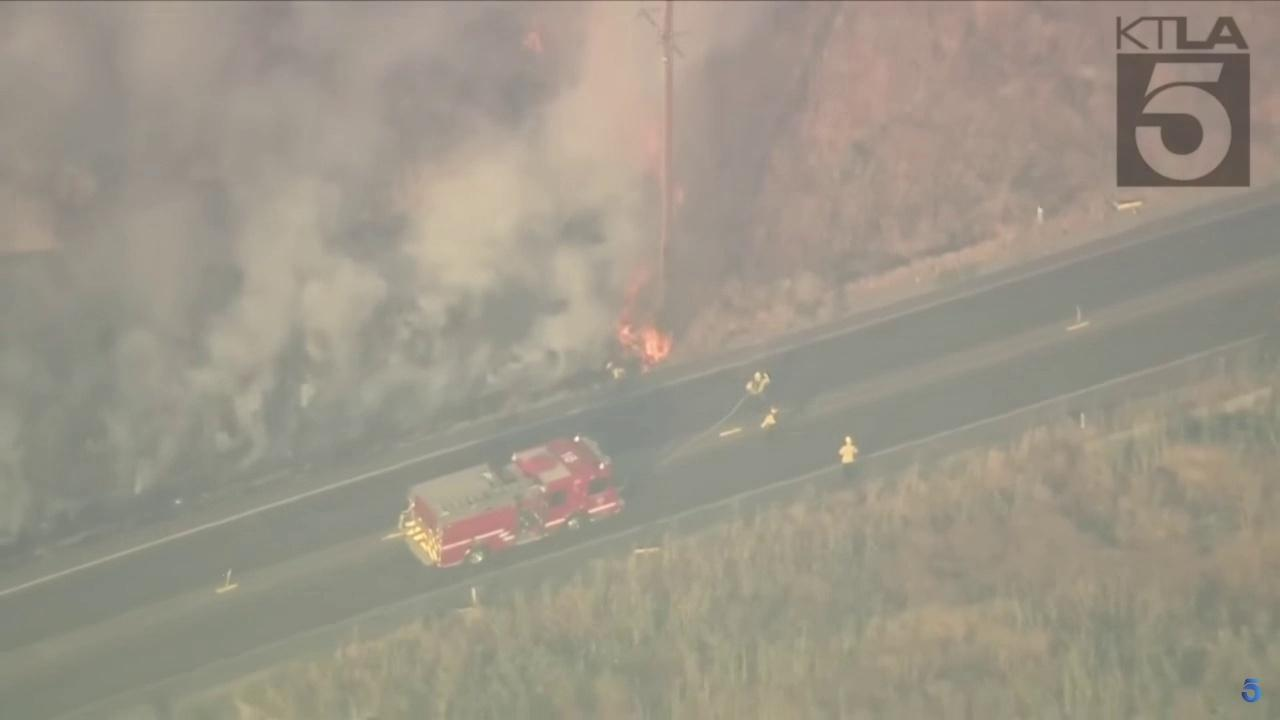fire: (614, 259, 674, 366), (522, 27, 547, 55)
smoke: (0, 0, 658, 515)
